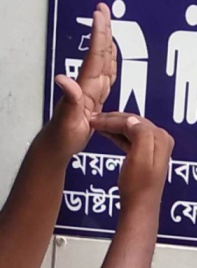ga: (47, 4, 176, 197)
